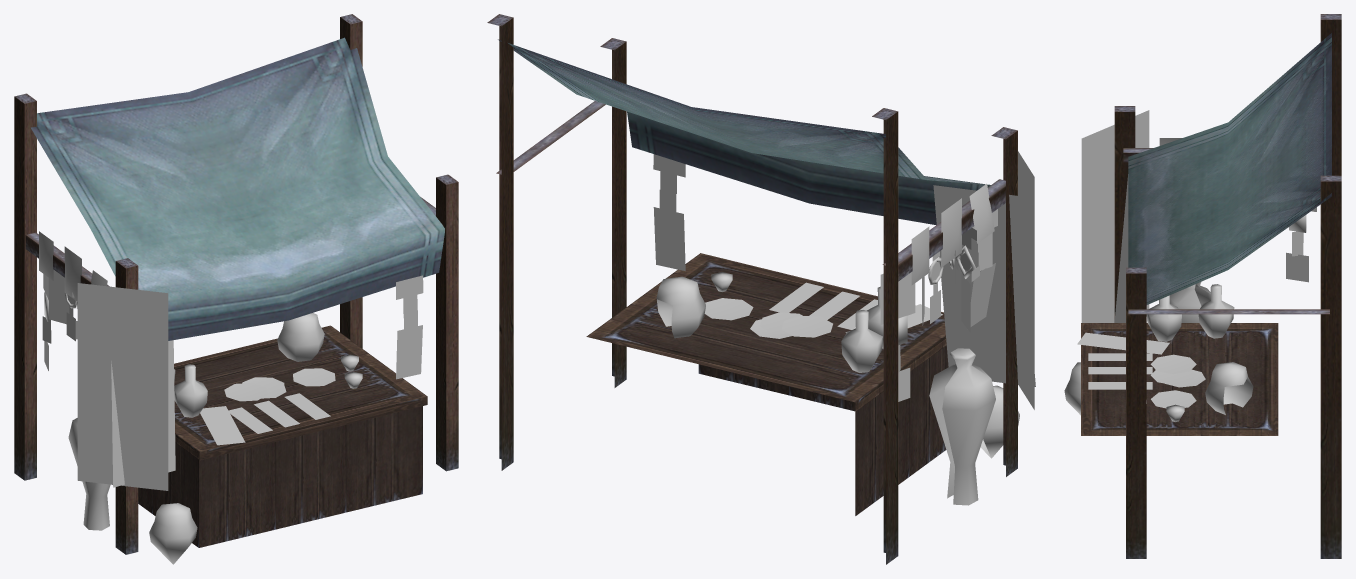
Rendered from zc_suzhou_tanwei05.FBX.
3 views of the same model, side by side, from view 1: azimuth 30°, elevation 25°; view 2: azimuth 150°, elevation 25°; view 3: azimuth 270°, elevation 25° (orthographic). The views are drawn at different scales.
Parts seen in each view (by area): view 1: zc_suzhou_tanwei05; view 2: zc_suzhou_tanwei05; view 3: zc_suzhou_tanwei05.
Boxes of the visible parts, <box> form: zc_suzhou_tanwei05: <box>14,14,458,564</box>; zc_suzhou_tanwei05: <box>487,14,1035,564</box>; zc_suzhou_tanwei05: <box>1064,14,1341,558</box>.
Bounding box in the file's own units: 446 × 445 × 285.
